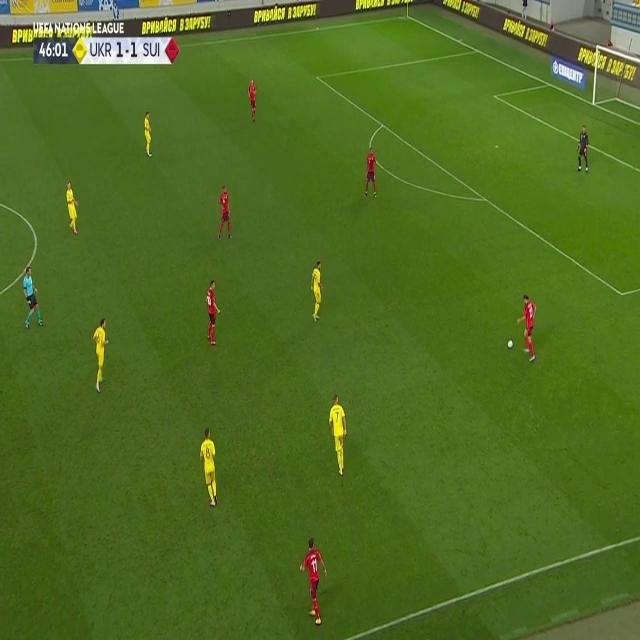ball: (506, 337, 514, 348)
player: (298, 536, 328, 627), (198, 426, 218, 508), (328, 394, 348, 476), (516, 293, 538, 362), (92, 317, 110, 391), (22, 267, 42, 329), (204, 279, 222, 346), (217, 184, 233, 241), (310, 260, 324, 322), (363, 145, 379, 199), (65, 180, 79, 234), (576, 124, 590, 172), (143, 111, 153, 157), (247, 76, 257, 122)
